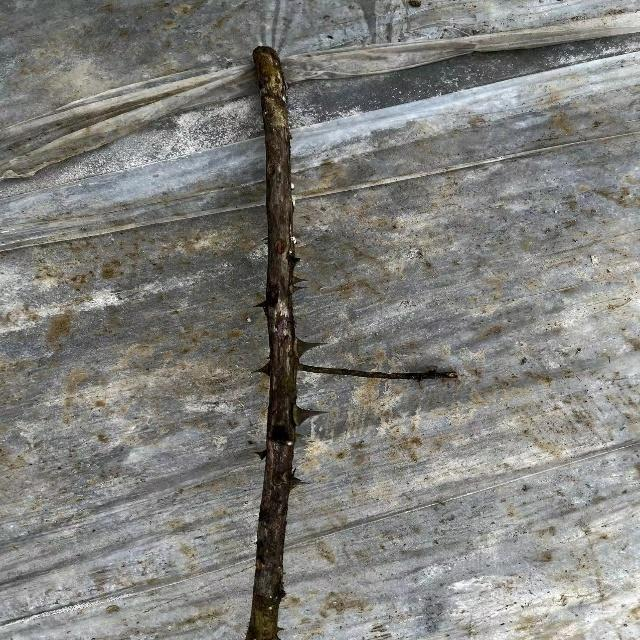branch: (246, 47, 299, 640)
